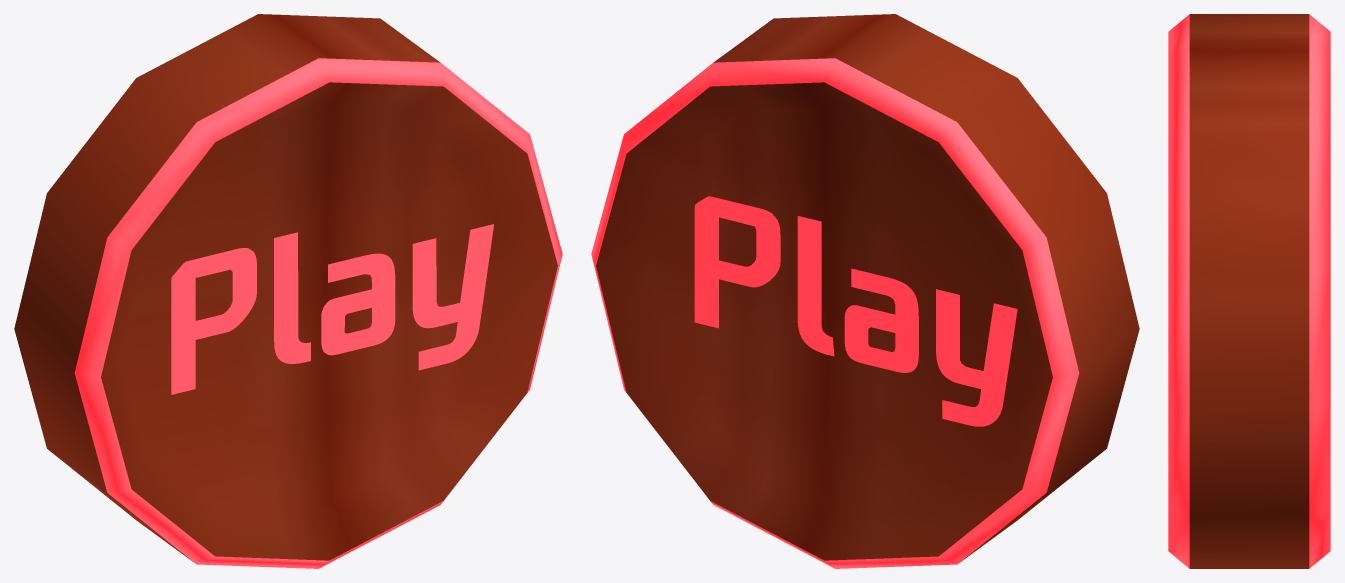
File: startCoinSS.glb
3 renders of one model, left to right at view 1: azimuth 30°, elevation 25°; view 2: azimuth 150°, elevation 25°; view 3: azimuth 270°, elevation 25°, orthographic.
Parts seen in each view (by area): view 1: SS Start Coin; view 2: SS Start Coin; view 3: SS Start Coin.
Part boxes in pixels (left/top/right/bottom): SS Start Coin: left=14, top=14, right=562, bottom=568; SS Start Coin: left=591, top=14, right=1139, bottom=568; SS Start Coin: left=1168, top=14, right=1330, bottom=568.
Size of the model in its own units: 1.11 by 1.11 by 0.3227.
Materials: 2 (1 with a texture image).
